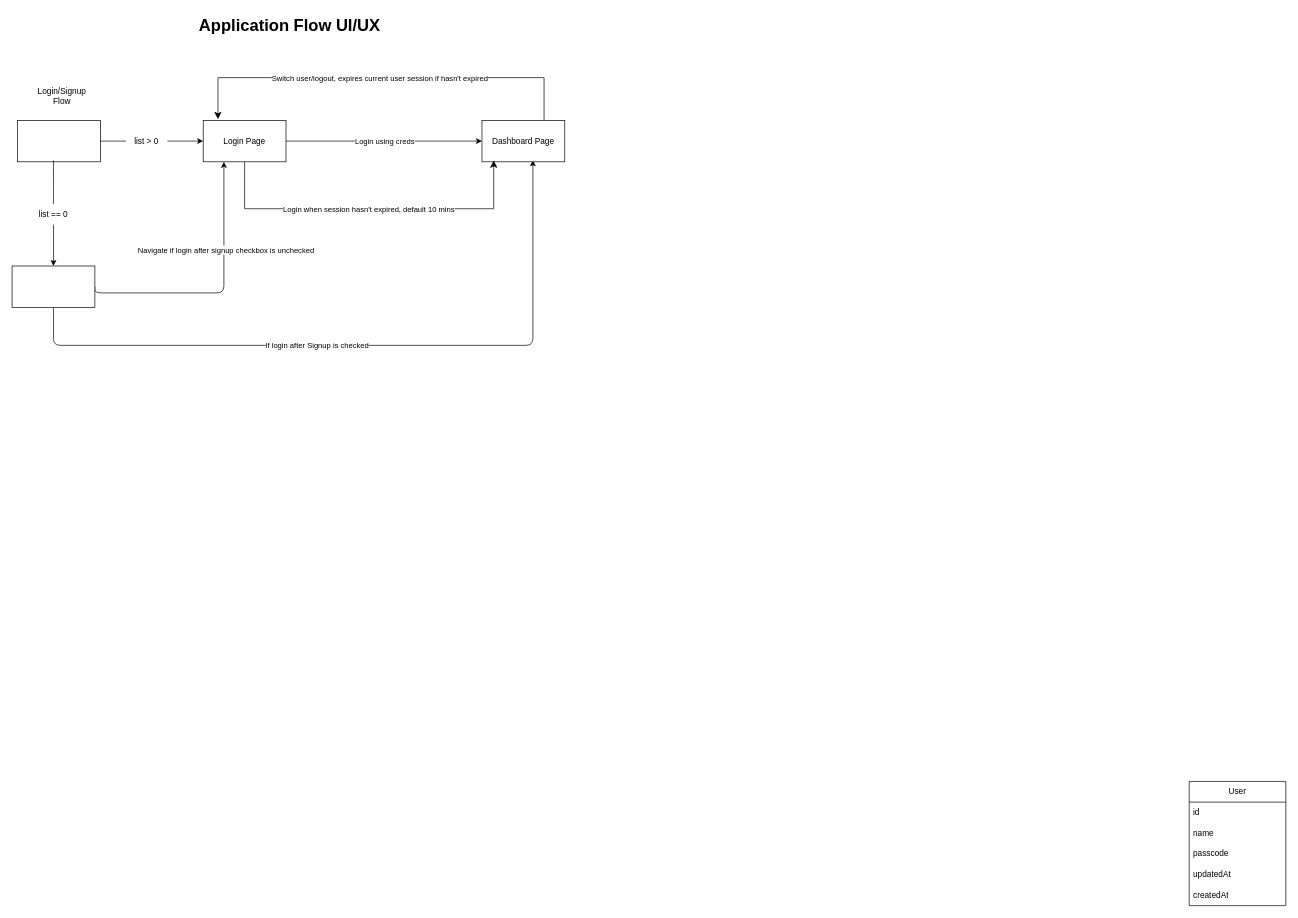
The diagram is 1298 pixels wide and 918 high, and some of its shapes have lost their labels. The centre of each missing label's shape, as x and y in pixels:
"Get list of Users from DB" goes at [58,141].
"Signup Page" goes at [53,286].
